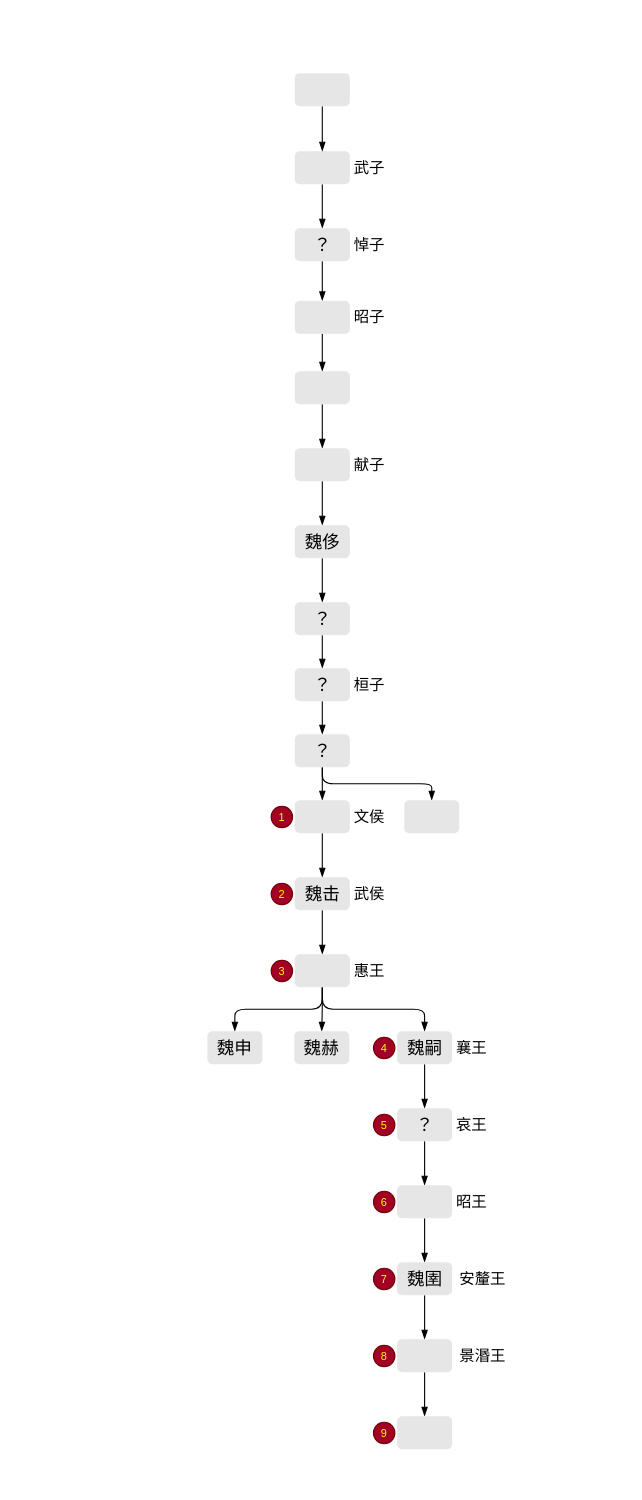
This 642x1500 diagram has some shape labels left out. The shapes that lost their labels are listed below. From the top down, each one's centre as x and y in pixels, then its label:
[321,89]: 毕万
[321,167]: 魏犨
[321,316]: 魏绛
[321,387]: 魏赢
[321,464]: 魏荼
[321,816]: 魏斯
[431,816]: 魏成
[321,970]: 魏䓨
[424,1201]: 魏遬
[424,1355]: 魏增
[424,1432]: 魏假
